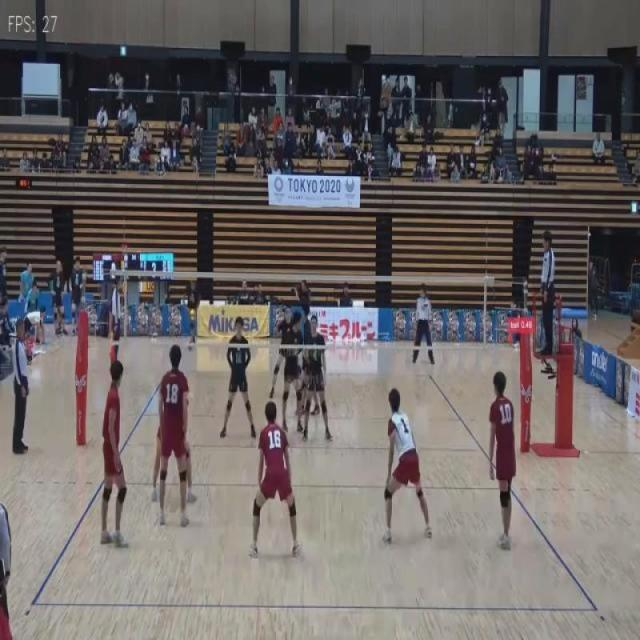volleyball: (189, 308, 196, 321)
